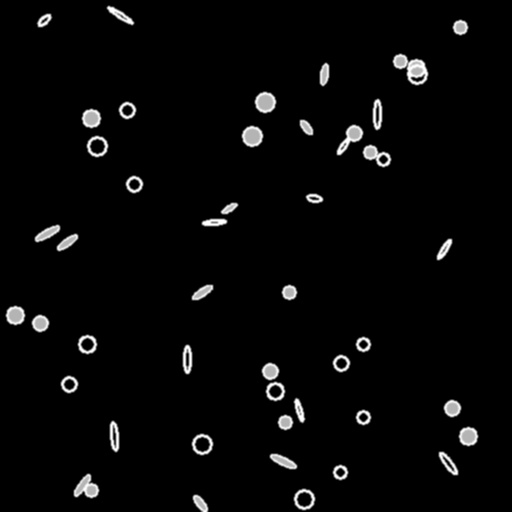pseudomonas: (437, 451, 459, 475), (107, 5, 133, 25), (72, 473, 92, 497), (34, 224, 60, 242), (190, 283, 214, 301), (270, 453, 296, 469), (56, 233, 78, 251), (436, 238, 452, 260), (298, 118, 314, 136), (192, 494, 208, 512), (109, 422, 119, 450), (36, 12, 52, 28), (336, 137, 350, 155), (373, 99, 381, 129), (294, 399, 304, 421), (319, 64, 329, 84), (221, 202, 237, 214), (184, 346, 190, 372), (203, 219, 225, 225), (306, 194, 322, 202)
synechocystis: (243, 127, 261, 145), (295, 490, 313, 508), (408, 65, 426, 83), (88, 137, 106, 155), (256, 93, 274, 111), (193, 435, 211, 453), (83, 110, 99, 126), (79, 336, 95, 352), (460, 428, 476, 444), (7, 307, 23, 323), (408, 60, 424, 76), (267, 383, 283, 399), (127, 177, 141, 191), (33, 316, 47, 330), (263, 364, 277, 378), (347, 126, 361, 140), (62, 377, 76, 391), (445, 401, 459, 415), (334, 356, 348, 370), (120, 103, 134, 117), (394, 55, 406, 67), (85, 484, 97, 496), (279, 416, 291, 428), (357, 411, 369, 423), (334, 466, 346, 478), (454, 21, 466, 33), (357, 338, 369, 350), (364, 146, 376, 158), (283, 286, 295, 298), (377, 153, 389, 165)
